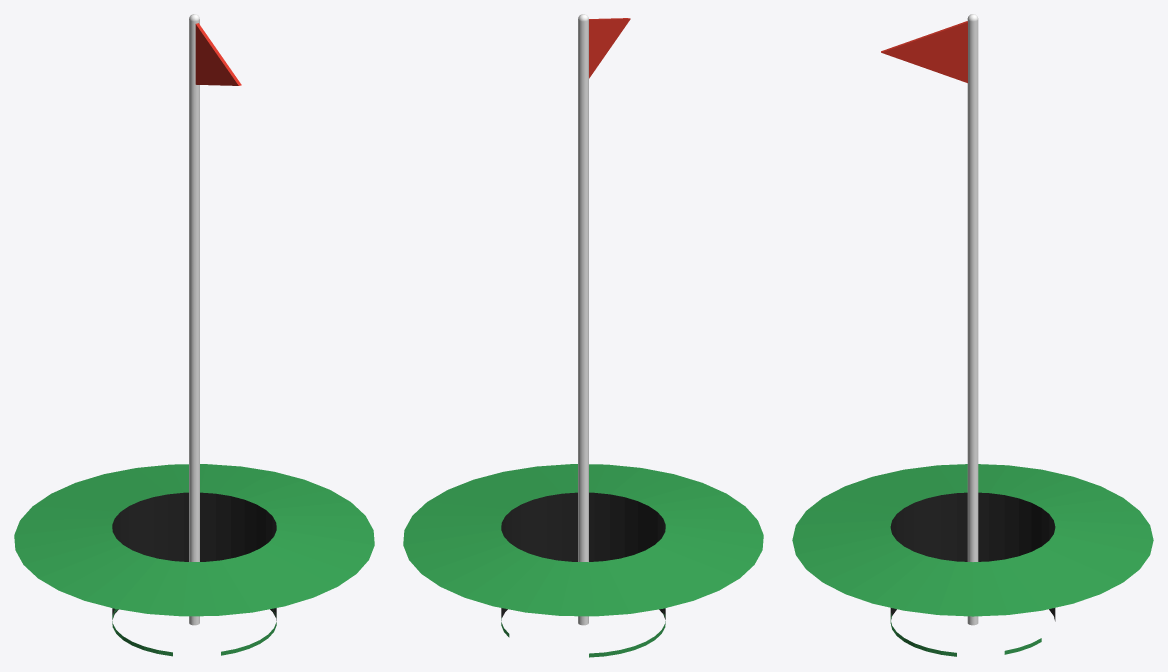
The model's file is flagandhole.fbx.
3 views of the same model, side by side, from view 1: azimuth 30°, elevation 25°; view 2: azimuth 150°, elevation 25°; view 3: azimuth 270°, elevation 25° (orthographic).
Parts seen in each view (by area): view 1: Hole, Pole, Flag; view 2: Hole, Pole, Flag; view 3: Hole, Pole, Flag.
Boxes of the visible parts, <box> form: Hole: <box>14,464,374,656</box>; Pole: <box>189,14,199,625</box>; Flag: <box>195,23,241,85</box>; Hole: <box>403,464,763,657</box>; Pole: <box>578,14,588,625</box>; Flag: <box>589,18,630,78</box>; Hole: <box>792,464,1153,656</box>; Pole: <box>967,14,978,625</box>; Flag: <box>881,21,967,83</box>.
Size of the model in its own units: 1057 by 1964 by 1057.
